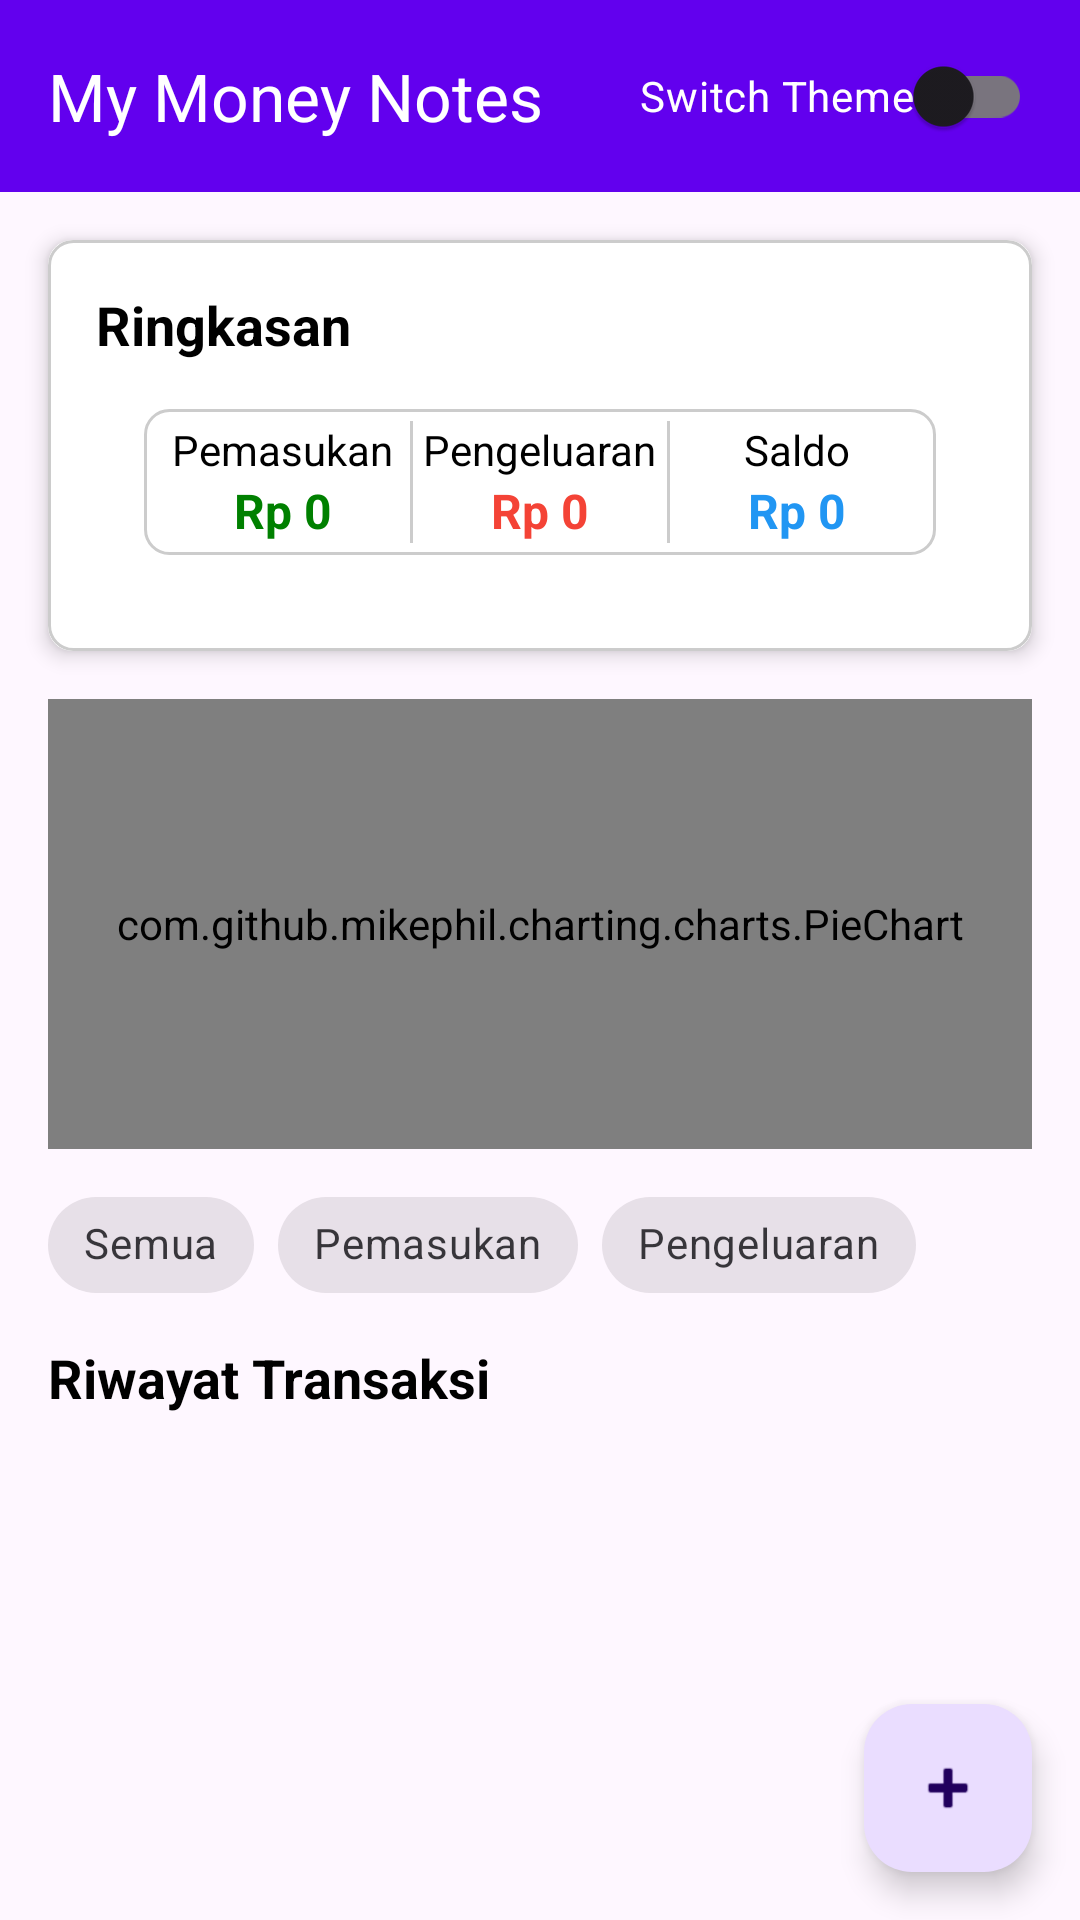

Where to tap for icons on this 1080 x 1920 app screen, as [x,y]:
Tambah Transaksi: [948,1788]
